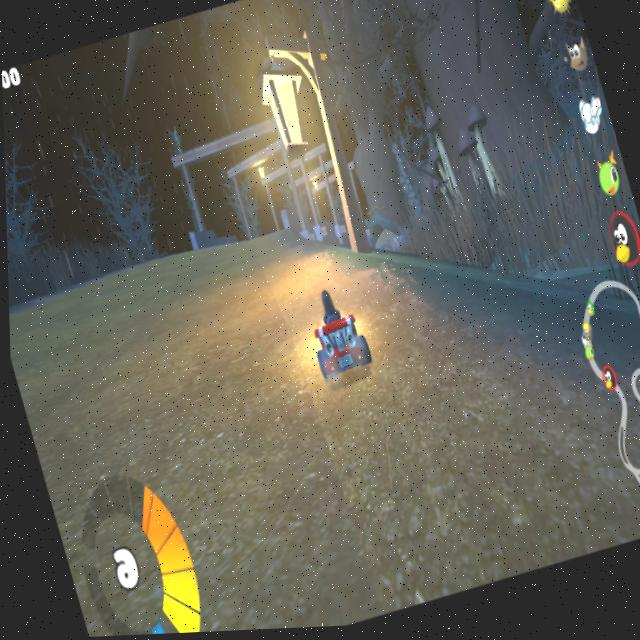player_kart: (291, 278, 384, 398)
track: (6, 239, 318, 490)
